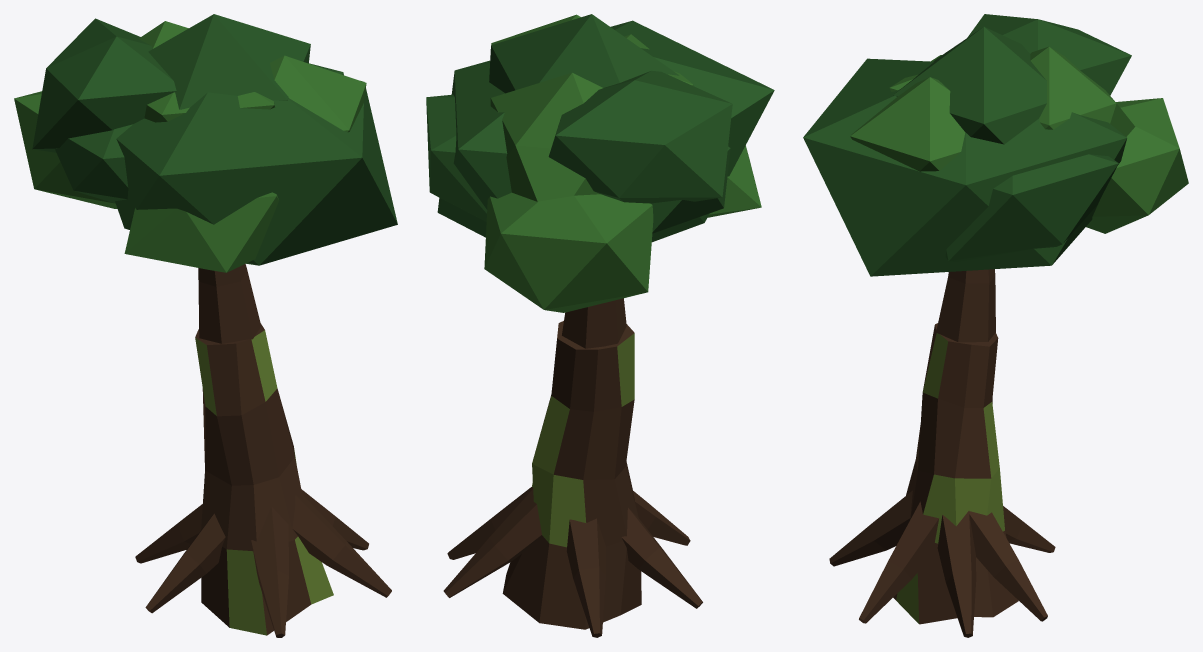
File: Tree_Ancient_A.glb
The picture shows the model from 3 angles, left to right: view 1: azimuth 30°, elevation 25°; view 2: azimuth 150°, elevation 25°; view 3: azimuth 270°, elevation 25°; orthographic projection. The views are drawn at different scales.
Visible parts, largest first — view 1: Tree_Ancient_A; view 2: Tree_Ancient_A; view 3: Tree_Ancient_A.
Part boxes in pixels (bbox=[...]): Tree_Ancient_A: bbox=[14, 14, 397, 637]; Tree_Ancient_A: bbox=[426, 14, 774, 637]; Tree_Ancient_A: bbox=[803, 14, 1188, 637].
Size of the model in its own units: 3.52 by 6.6 by 4.08.
